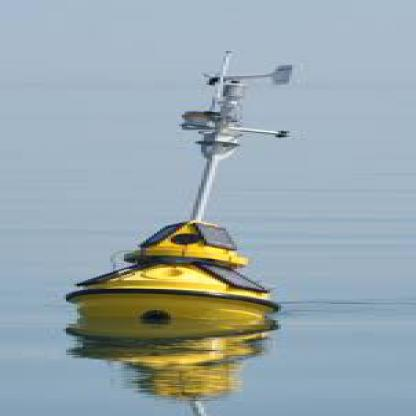buoy: (52, 45, 317, 329)
